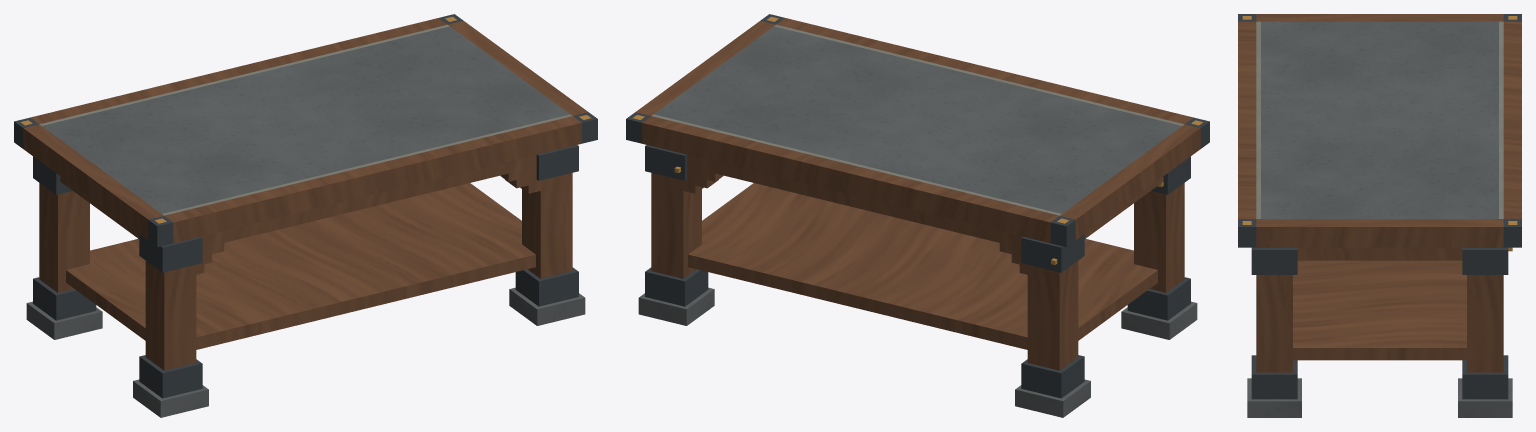
3 views of the same model, side by side, from view 1: azimuth 30°, elevation 25°; view 2: azimuth 150°, elevation 25°; view 3: azimuth 270°, elevation 25° (orthographic).
Parts seen in each view (by area): view 1: 茶几台面, 茶几桌架; view 2: 茶几台面, 茶几桌架; view 3: 茶几台面, 茶几桌架.
Boxes of the visible parts, bbox=[...] form: 茶几台面: bbox=[14, 14, 597, 247]; 茶几桌架: bbox=[26, 145, 585, 417]; 茶几台面: bbox=[626, 14, 1209, 247]; 茶几桌架: bbox=[638, 145, 1197, 417]; 茶几台面: bbox=[1238, 14, 1521, 247]; 茶几桌架: bbox=[1247, 247, 1512, 417].
Bounding box in the file's own units: 1.1 × 0.47 × 0.62.
6 materials, 6 textured.
